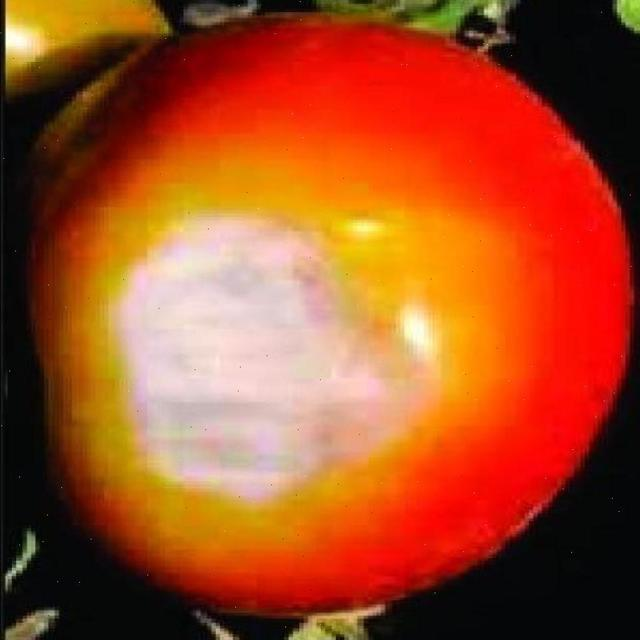Sunscald Fruit: (55, 112, 308, 347)
